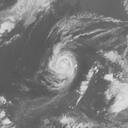cyclone: (42, 44, 79, 91)
